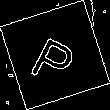P_NE: (27, 24, 83, 86)
